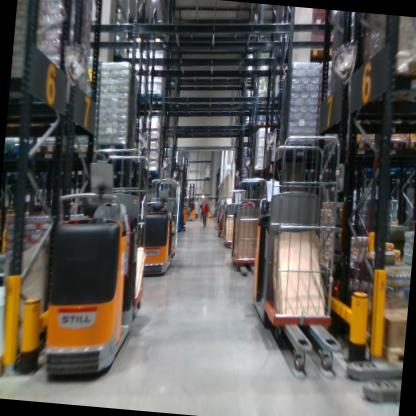forklift: (168, 151, 194, 235), (182, 178, 201, 226)
pallet: (380, 44, 416, 85), (364, 334, 405, 364), (303, 42, 348, 65), (34, 135, 72, 161), (7, 142, 40, 162), (352, 134, 379, 156), (380, 133, 408, 154), (0, 350, 14, 380), (407, 135, 416, 155), (241, 118, 258, 128), (258, 117, 270, 128), (269, 119, 282, 128)
pallet_truck: (34, 138, 163, 397), (242, 138, 363, 389), (134, 168, 187, 290), (227, 174, 272, 279), (219, 186, 242, 250), (212, 187, 229, 240)
